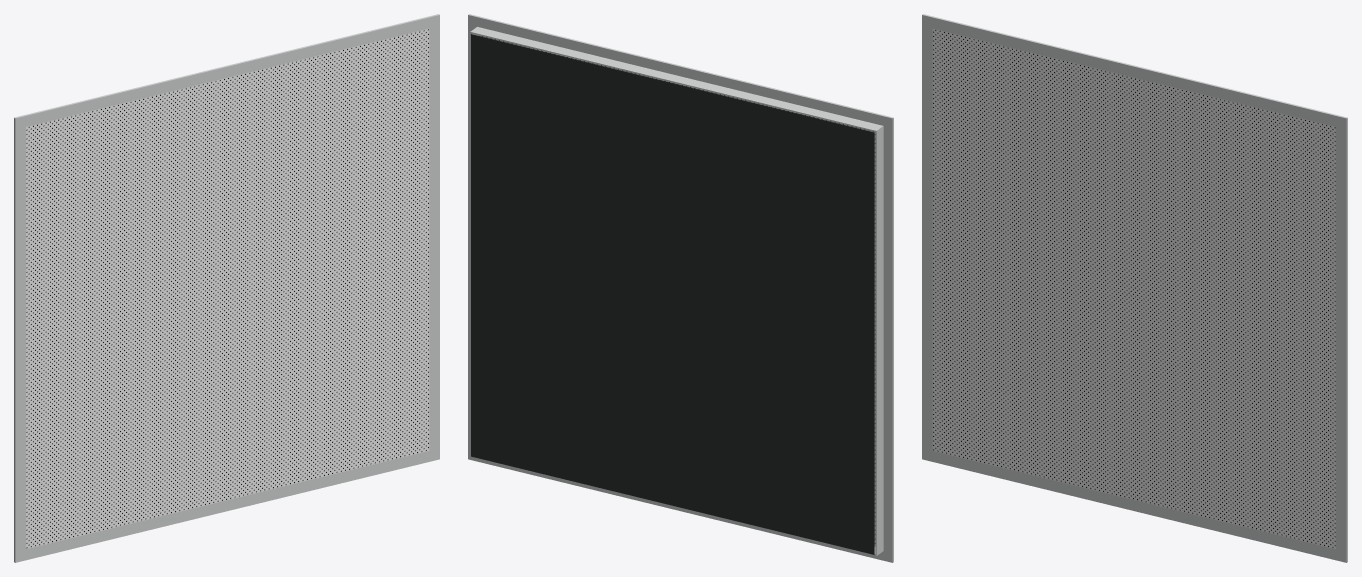
Rendered from ecoclima-egfr-600x600.glb.
The picture shows the model from 3 angles, left to right: view 1: azimuth 30°, elevation 25°; view 2: azimuth 150°, elevation 25°; view 3: azimuth 330°, elevation 25°; orthographic projection.
Parts seen in each view (by area): view 1: Profile_lamiera_forata.001, Profile_cornice.113, Profile_cornice.115, Profile_cornice.114, Profile_cornice.116; view 2: Interno.032, Profile_cornice.113, Profile_cornice.115, Profile_ritorno.122, Profile_ritorno.120, Profile_cornice.114, Profile_cornice.116, Profile_lamiera_forata.001, Profile_ritorno.121; view 3: Profile_lamiera_forata.001, Profile_cornice.113, Profile_cornice.116, Profile_cornice.114, Profile_cornice.115.
Boxes of the visible parts, <box> form: Profile_lamiera_forata.001: <box>26,28,429,548</box>; Profile_cornice.113: <box>14,14,439,129</box>; Profile_cornice.115: <box>14,127,25,551</box>; Profile_cornice.114: <box>14,448,439,562</box>; Profile_cornice.116: <box>429,26,439,450</box>; Interno.032: <box>471,34,874,554</box>; Profile_cornice.113: <box>468,14,893,129</box>; Profile_cornice.115: <box>883,127,893,551</box>; Profile_ritorno.122: <box>875,127,883,554</box>; Profile_ritorno.120: <box>470,27,883,132</box>; Profile_cornice.114: <box>468,448,893,562</box>; Profile_cornice.116: <box>468,26,475,448</box>; Profile_lamiera_forata.001: <box>479,35,875,546</box>; Profile_ritorno.121: <box>470,455,883,555</box>; Profile_lamiera_forata.001: <box>932,28,1335,548</box>; Profile_cornice.113: <box>922,14,1347,129</box>; Profile_cornice.116: <box>1336,127,1347,551</box>; Profile_cornice.114: <box>922,448,1347,562</box>; Profile_cornice.115: <box>922,26,932,450</box>.
Bounding box in the file's own units: 0.6 × 0.6 × 0.022.
3 materials, 1 textured.
